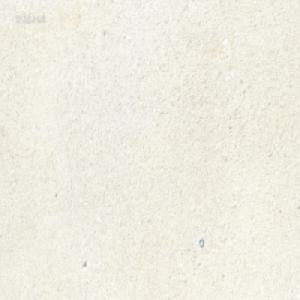Washer: (198, 237, 204, 247)
